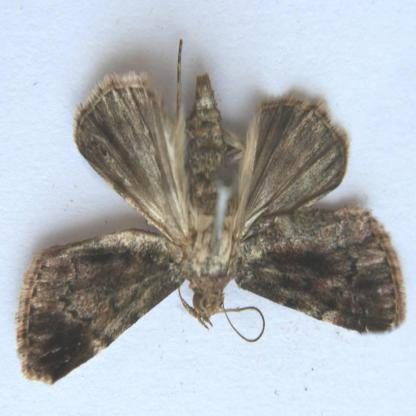Leaf Webber: (17, 70, 404, 387)
